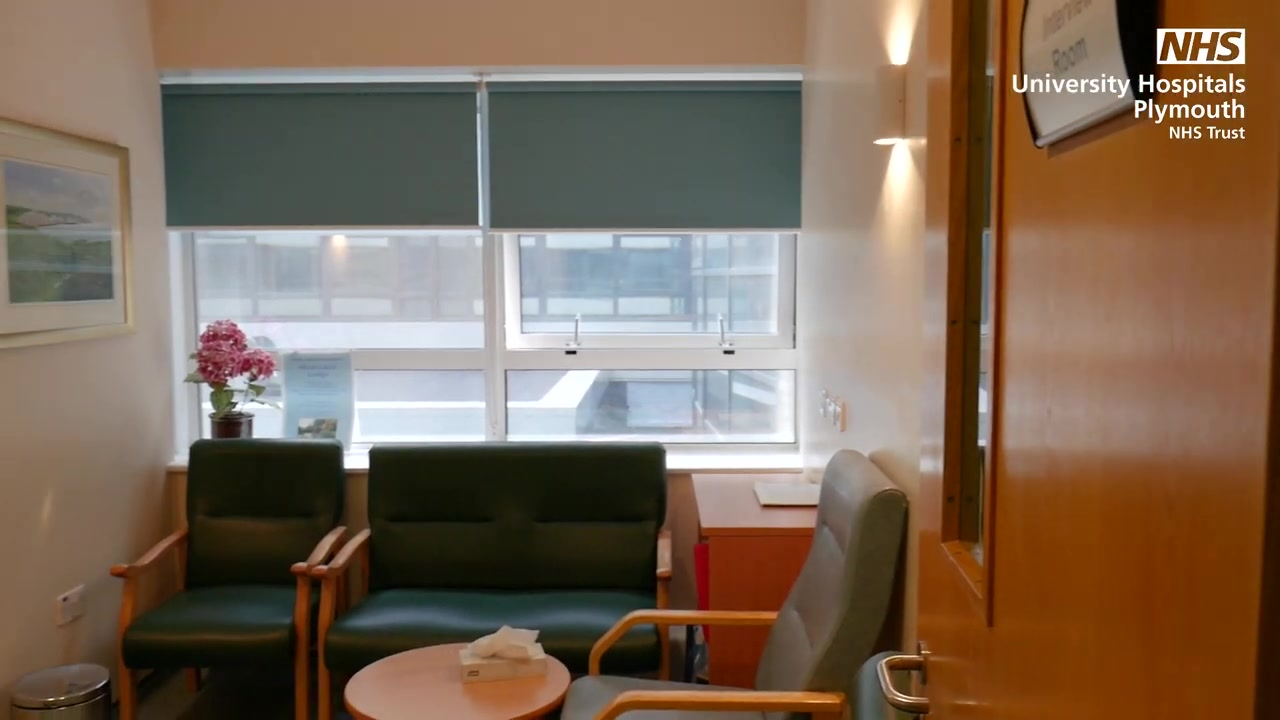chair: (314, 439, 673, 720), (564, 451, 906, 720), (109, 440, 346, 720)
door_handle: (877, 642, 931, 720)
handle: (567, 311, 587, 349), (715, 311, 732, 351)
table: (692, 471, 820, 688), (344, 642, 571, 720)
waste_bin: (14, 663, 114, 720)
